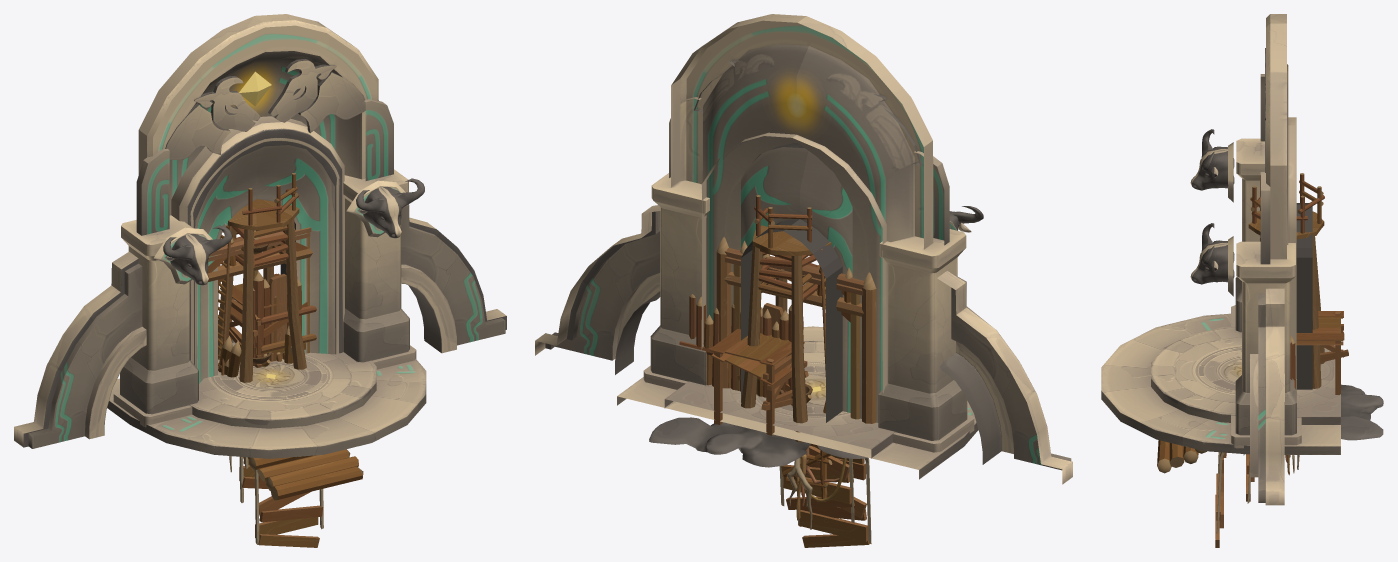
File: missing_props.gltf
3 renders of one model, left to right at view 1: azimuth 30°, elevation 25°; view 2: azimuth 150°, elevation 25°; view 3: azimuth 270°, elevation 25°, orthographic. The views are drawn at different scales.
Parts seen in each view (by area): view 1: EN_Temple_Door, PR_whatching_post, PR_Wood_Stairs, PR_Hanging_bridge_long, PR_wall_spike, PR_wall_plank, PR_door_spike, PR_door_simple; view 2: EN_Temple_Door, PR_whatching_post, PR_door_spike, EN_Corner_Rock2, PR_Hanging_bridge_long, PR_wall_spike, PR_bridge_structure_2, PR_door_simple, PR_Hanging_bridge_mid, PR_bridge_structure_angle; view 3: EN_Temple_Door, PR_whatching_post, EN_Corner_Rock2, PR_Wood_Stairs, PR_bridge_structure_2, PR_Hanging_bridge_long, PR_bridge_structure_1.
Boxes of the visible parts, x1,y1,x2,y2 form: EN_Temple_Door: [14, 14, 506, 458]; PR_whatching_post: [218, 173, 306, 382]; PR_Wood_Stairs: [248, 449, 363, 500]; PR_Hanging_bridge_long: [227, 325, 323, 547]; PR_wall_spike: [253, 271, 316, 361]; PR_wall_plank: [253, 274, 307, 365]; PR_door_spike: [207, 230, 312, 284]; PR_door_simple: [207, 227, 311, 353]; EN_Temple_Door: [535, 14, 1072, 484]; PR_whatching_post: [741, 195, 831, 442]; PR_door_spike: [716, 237, 876, 423]; EN_Corner_Rock2: [649, 417, 867, 467]; PR_Hanging_bridge_long: [797, 447, 871, 547]; PR_wall_spike: [679, 294, 792, 397]; PR_bridge_structure_2: [710, 329, 808, 435]; PR_door_simple: [724, 248, 864, 419]; PR_Hanging_bridge_mid: [763, 385, 854, 523]; PR_bridge_structure_angle: [711, 353, 791, 398]; EN_Temple_Door: [1101, 14, 1340, 505]; PR_whatching_post: [1248, 173, 1324, 388]; EN_Corner_Rock2: [1341, 384, 1383, 438]; PR_Wood_Stairs: [1157, 440, 1206, 473]; PR_bridge_structure_2: [1296, 311, 1348, 394]; PR_Hanging_bridge_long: [1215, 452, 1226, 547]; PR_bridge_structure_1: [1296, 312, 1343, 394].
Bounding box in the file's own units: 12.63 × 12.8 × 6.4.
2 materials, 2 textured.
